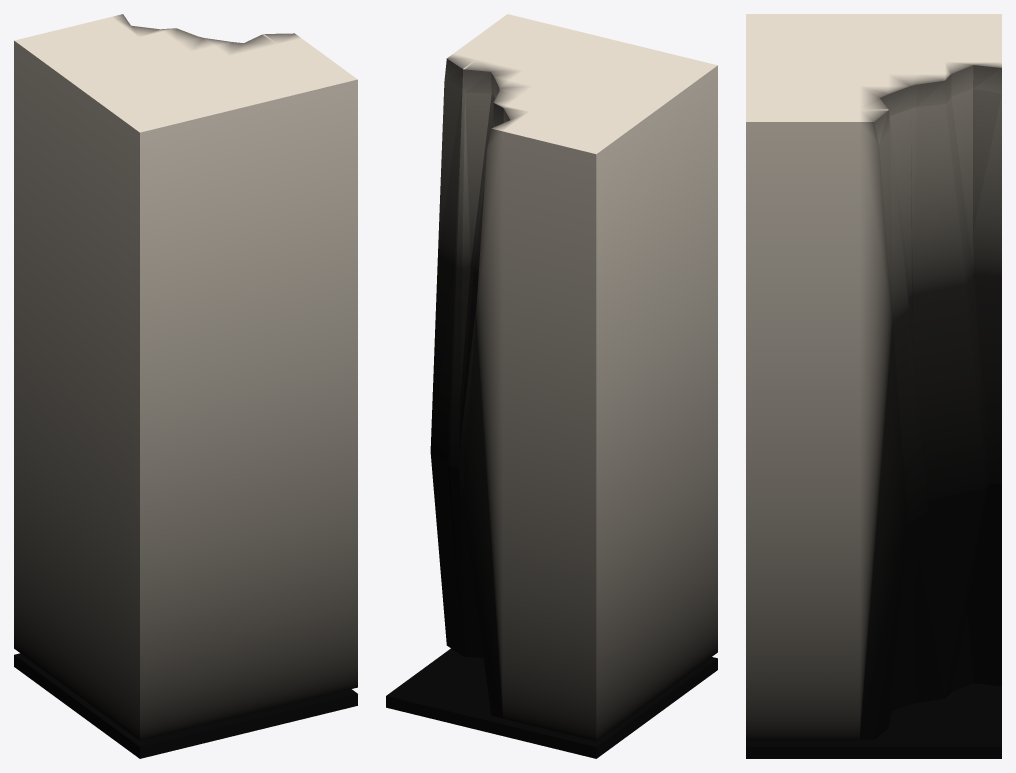
Rendered from SM_VKI_Ground_Cave_OOXO_Q00.fbx.
3 renders of one model, left to right at view 1: azimuth 30°, elevation 25°; view 2: azimuth 150°, elevation 25°; view 3: azimuth 270°, elevation 25°, orthographic. The views are drawn at different scales.
Visible parts, largest first — view 1: SM_VKI_Ground_Cave_OOXO_Q00.001; view 2: SM_VKI_Ground_Cave_OOXO_Q00.001; view 3: SM_VKI_Ground_Cave_OOXO_Q00.001.
Part boxes in pixels (left/top/right/bottom): SM_VKI_Ground_Cave_OOXO_Q00.001: left=14, top=14, right=357, bottom=758; SM_VKI_Ground_Cave_OOXO_Q00.001: left=386, top=14, right=717, bottom=758; SM_VKI_Ground_Cave_OOXO_Q00.001: left=746, top=14, right=1001, bottom=758.
Bounding box in the file's own units: 1.5 × 4.12 × 1.5.
